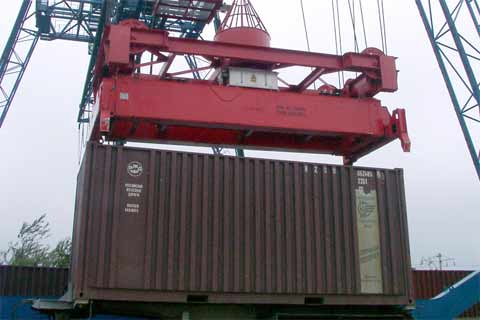container_no_door: (93, 141, 219, 305), (226, 147, 352, 310)
